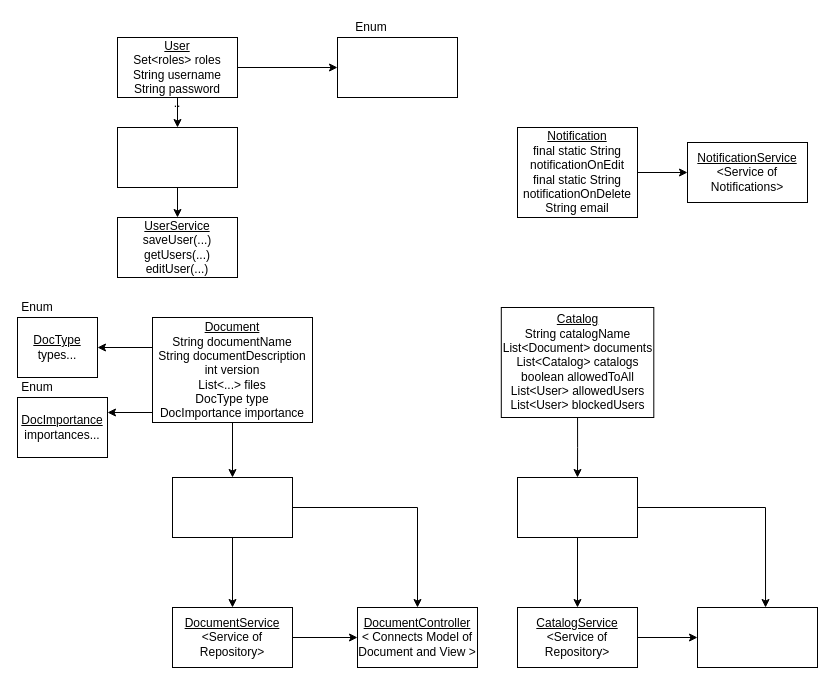
Image size: 835x685. Some labels were removed from this diagram. Here are the shapes that lost their labels. From the top down, the centre of each, then its label:
At pixel 397 67: "UserRole roles...".
At pixel 177 157: "UserRepository <User related Database methods>".
At pixel 232 507: "DocumentRepository <Document related Database methods>".
At pixel 577 507: "CatalogRepository <Catalog related Database methods>".
At pixel 757 637: "CatalogController < Connects Model of Catalog and View >".
